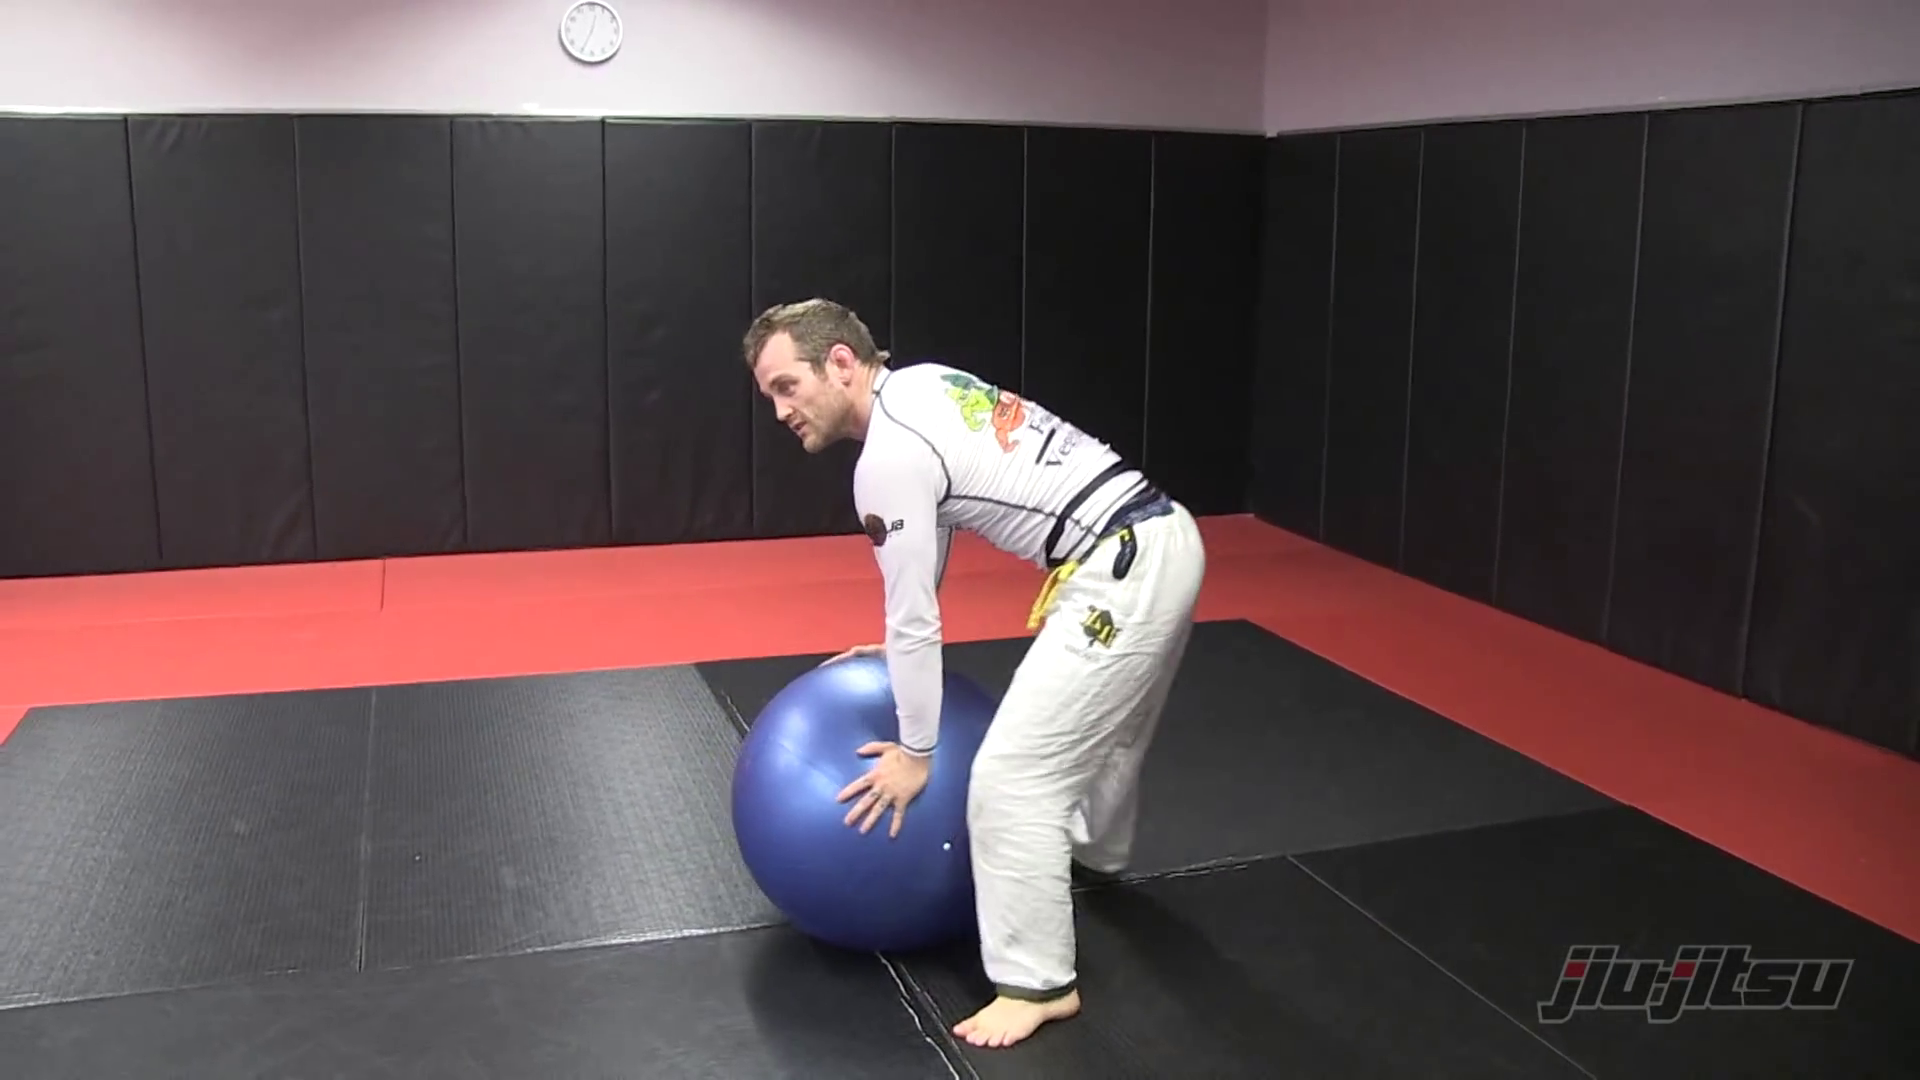yogaball: (705, 651, 1030, 965)
